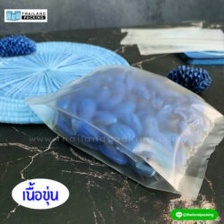snack: (16, 58, 224, 208)
